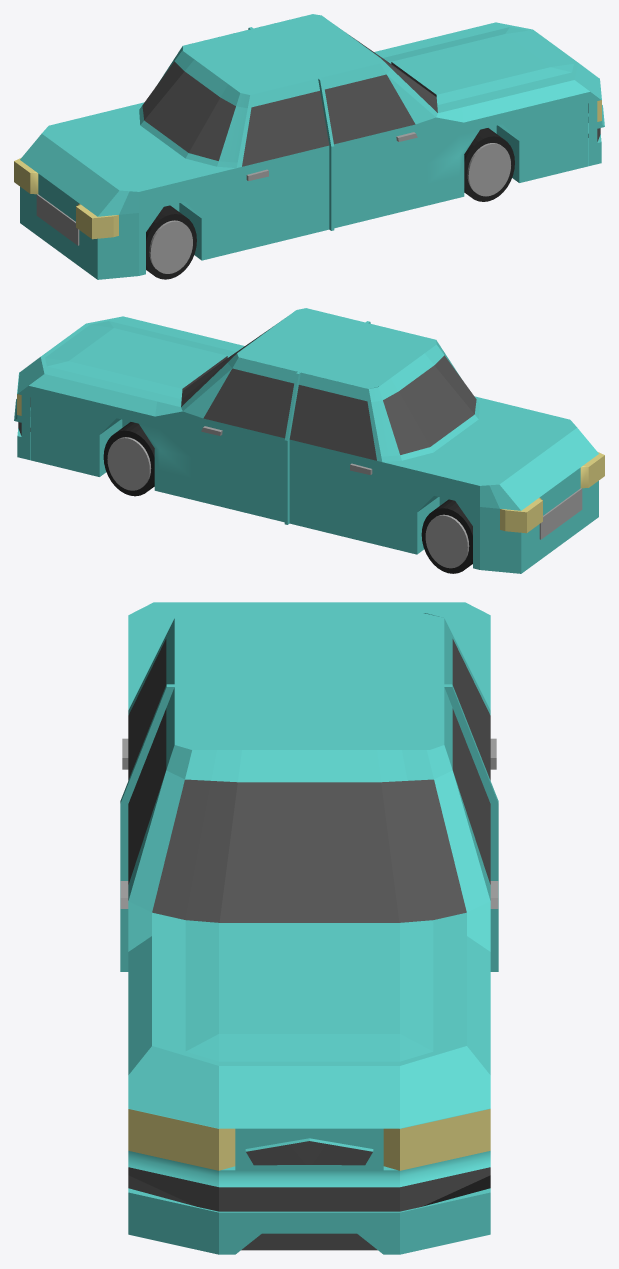
File: Car_1.fbx
3 views of the same model, one above another, from view 1: azimuth 30°, elevation 25°; view 2: azimuth 150°, elevation 25°; view 3: azimuth 270°, elevation 25° (orthographic). The views are drawn at different scales.
Visible parts, largest first — view 1: Base_Car, Cylinder_03, Cylinder_04; view 2: Base_Car, Cylinder_01, Cylinder_02; view 3: Base_Car.
Part boxes in pixels (box(x1,y1,x2,y2)): Base_Car: box(14, 14, 604, 279); Cylinder_03: box(464, 128, 514, 201); Cylinder_04: box(146, 205, 196, 279); Base_Car: box(14, 308, 604, 573); Cylinder_01: box(103, 422, 154, 496); Cylinder_02: box(421, 499, 472, 573); Base_Car: box(120, 602, 498, 1254).
Size of the model in its own units: 3771 by 1067 by 1171.
